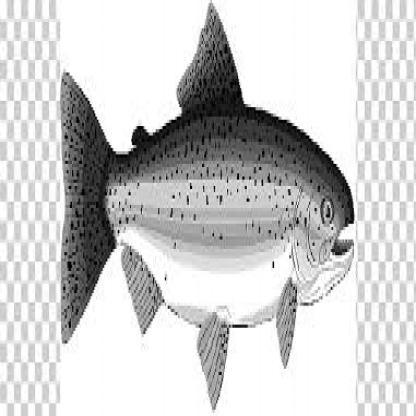fish: (61, 3, 354, 404)
